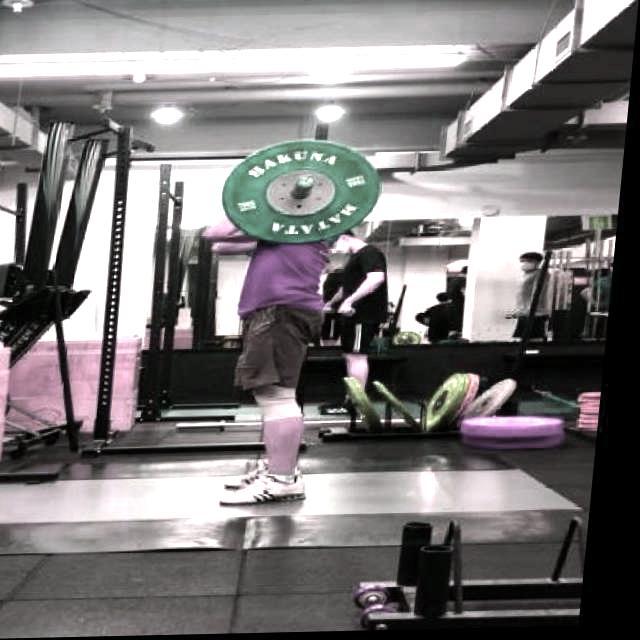barbell: (220, 131, 392, 250)
